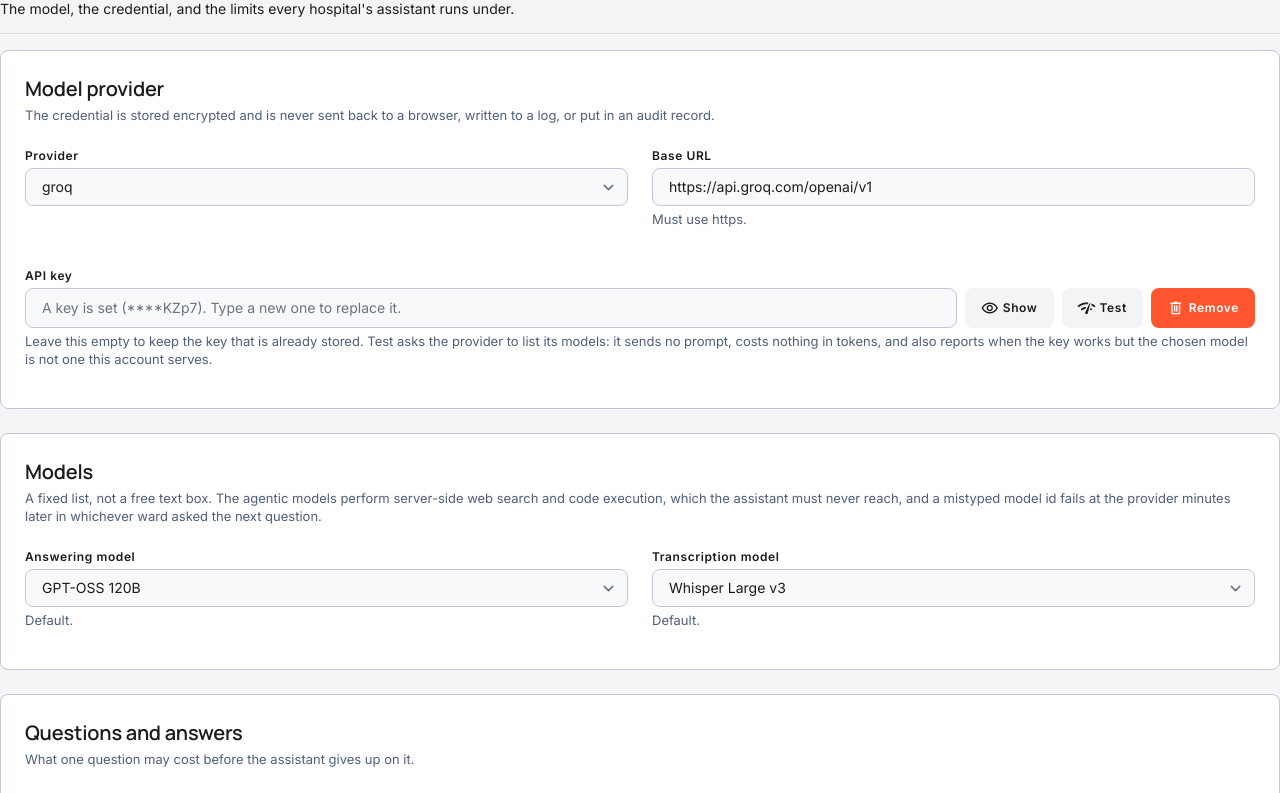
AssistantConfigPage (Master) › cannot be saved until something has changed
In the password field labelled "API key": [491, 308] box [25,288,957,328], type "gsk_new"
(page scrolled)
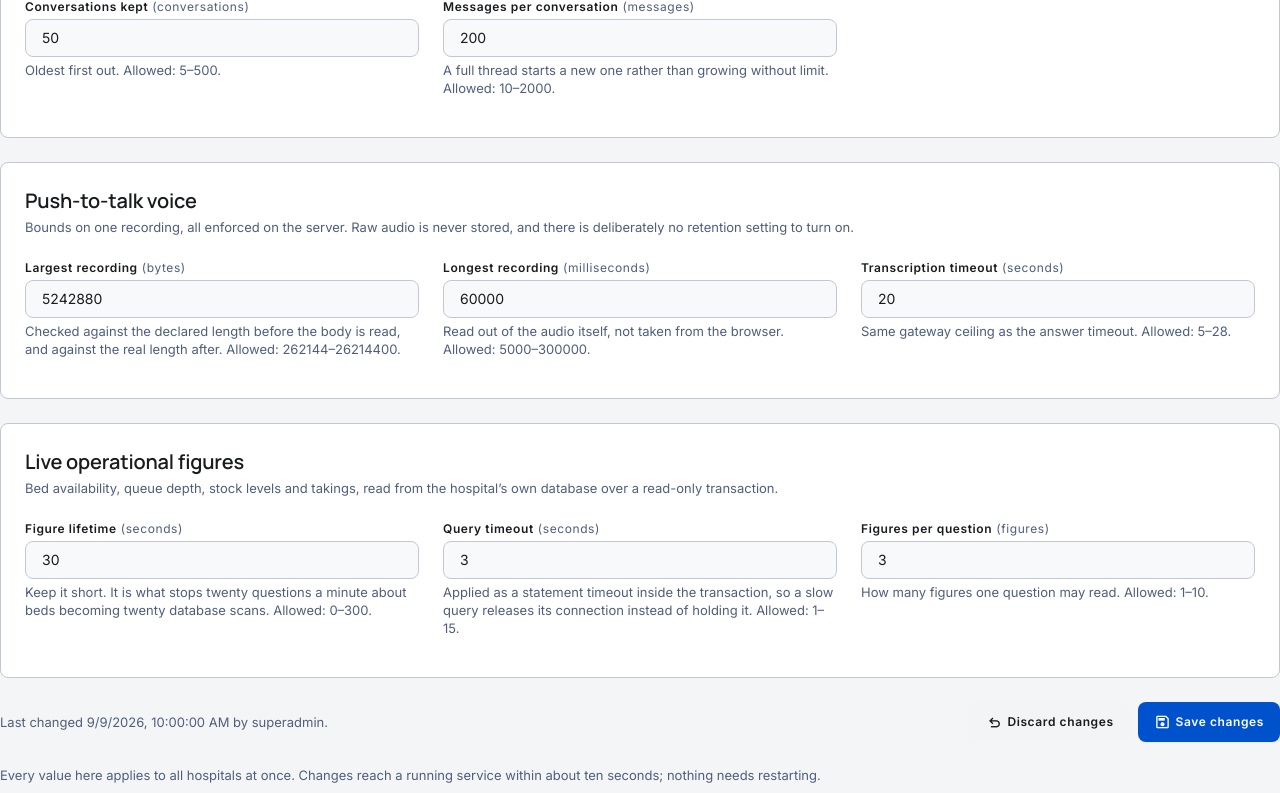
Result: the button "Save changes" is enabled at [1138,702,1279,742]
